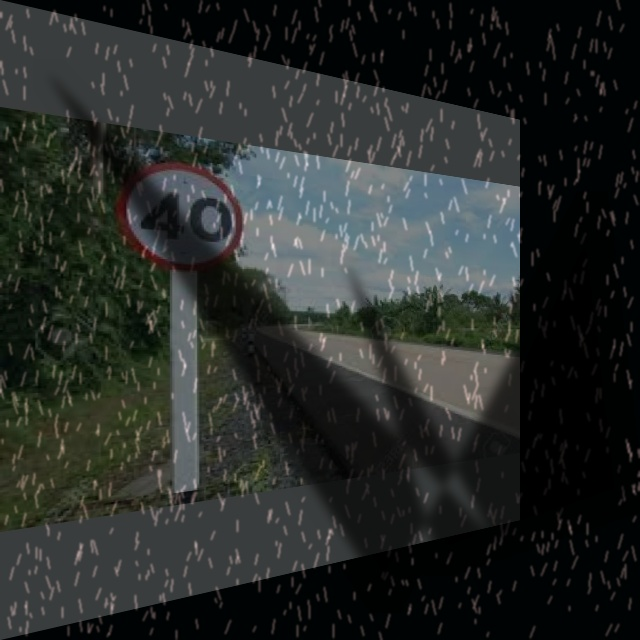Speed_Limit_40: (122, 149, 242, 272)
